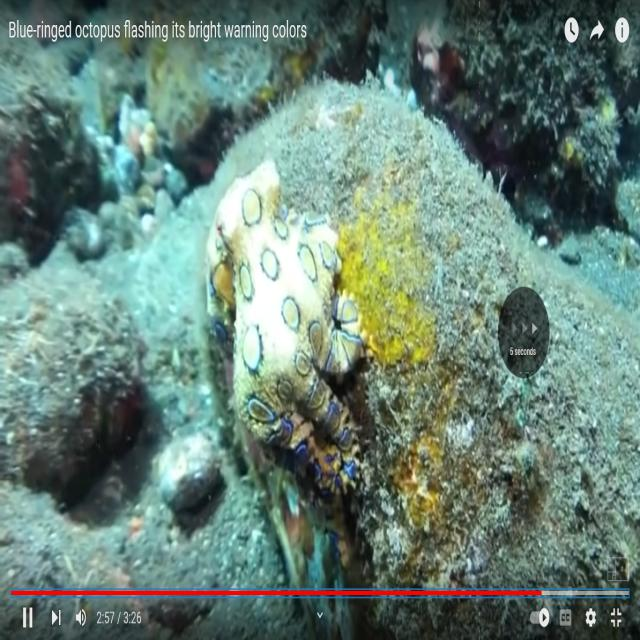blue_ringed_octopus: (204, 157, 364, 505)
